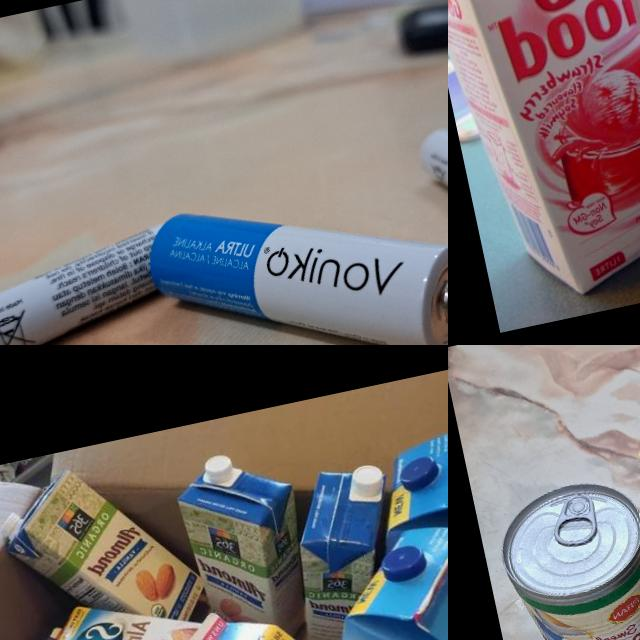aba de lata: (546, 492, 602, 548)
bateria: (138, 155, 448, 345), (0, 217, 185, 345), (411, 99, 448, 277)
caixinha: (448, 0, 640, 312), (0, 448, 209, 640), (171, 452, 323, 640), (270, 458, 421, 640), (311, 503, 448, 640), (360, 402, 448, 583), (591, 0, 640, 288), (0, 579, 216, 640)
lata: (489, 469, 640, 640)
tampa plástica: (376, 538, 431, 584), (396, 452, 442, 492), (345, 459, 388, 500), (202, 451, 234, 485), (0, 508, 26, 537), (32, 634, 59, 640)
